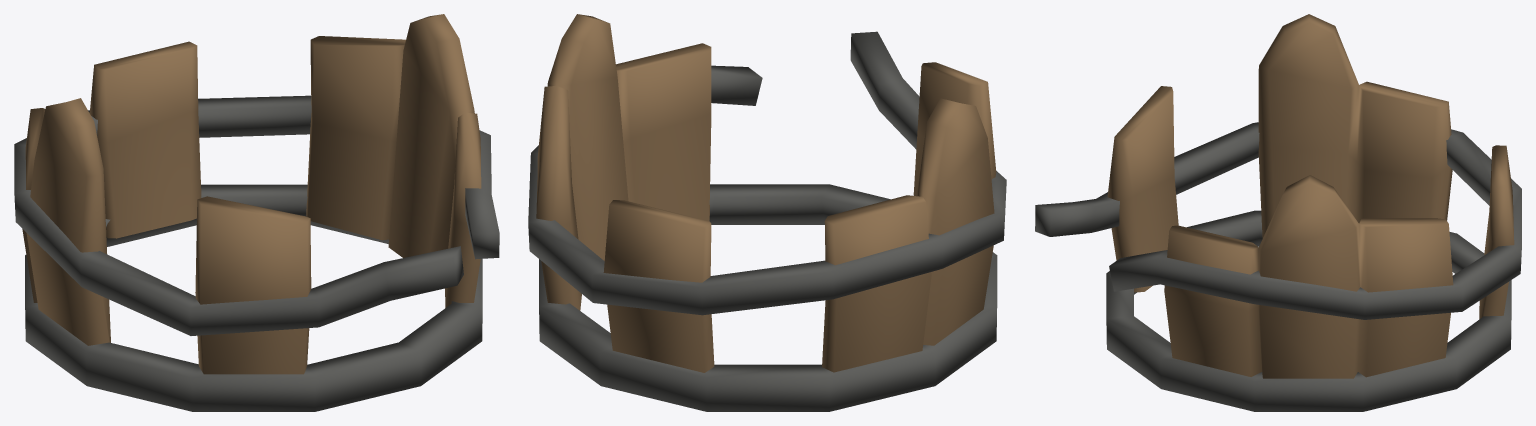
File: rpgpp_av_bathtub_wood_01c.gltf
3 views of the same model, side by side, from view 1: azimuth 30°, elevation 25°; view 2: azimuth 150°, elevation 25°; view 3: azimuth 270°, elevation 25° (orthographic). The views are drawn at different scales.
Visible parts, largest first — view 1: rpgpp_av_bathtub_wood_01c; view 2: rpgpp_av_bathtub_wood_01c; view 3: rpgpp_av_bathtub_wood_01c.
Part boxes in pixels (x1,y1,x2,y2): rpgpp_av_bathtub_wood_01c: (14,14,499,411); rpgpp_av_bathtub_wood_01c: (528,14,1006,411); rpgpp_av_bathtub_wood_01c: (1035,14,1521,411).
Size of the model in its own units: 0.013 by 0.00782 by 0.015.
1 material, 1 textured.
